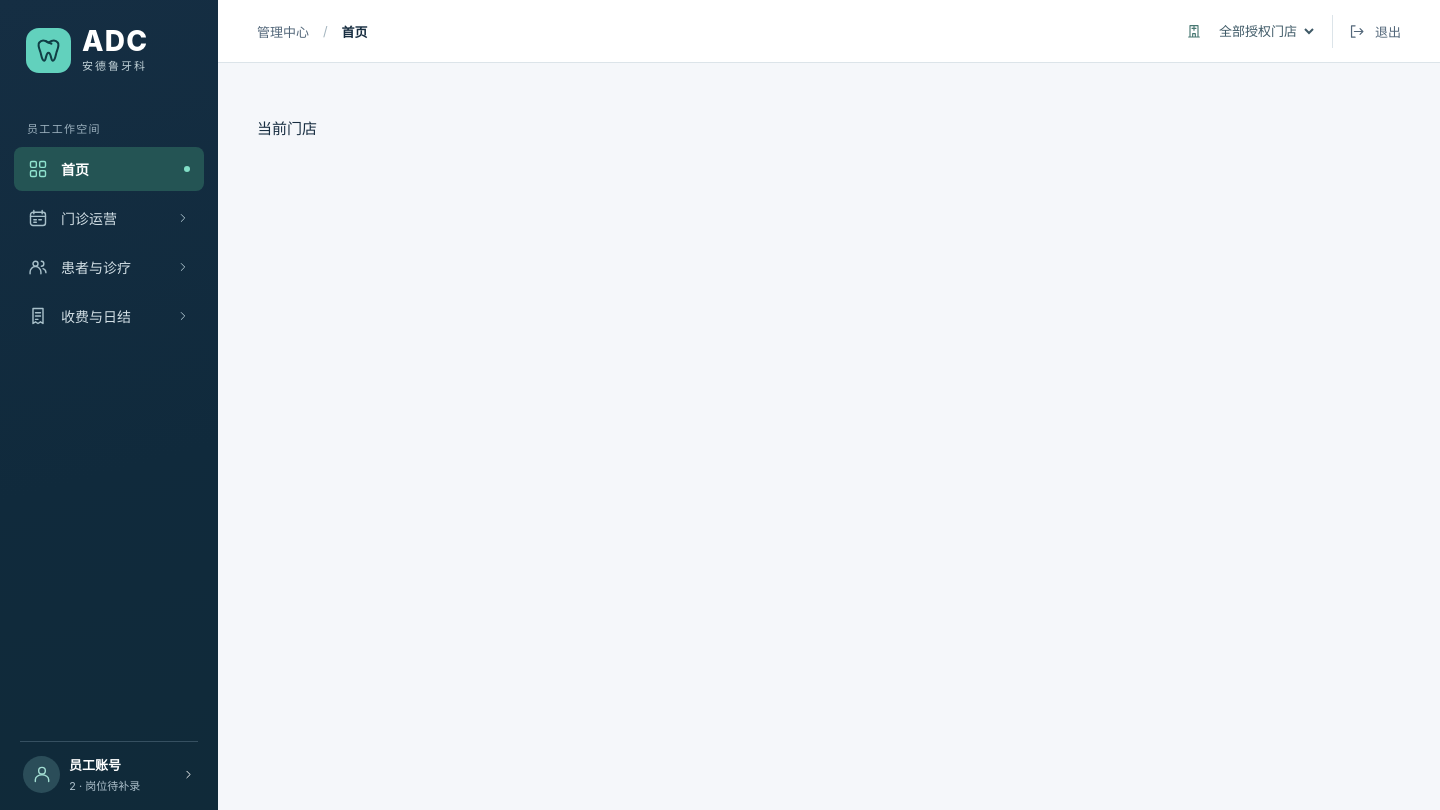
Scenario: an older unauthorized response cannot end the workspace after a clinic switch
The image size is (1440, 810).
Select "中心门诊" in the dropdown named "工作门店" at (1265, 31), box [1212,17,1317,45]
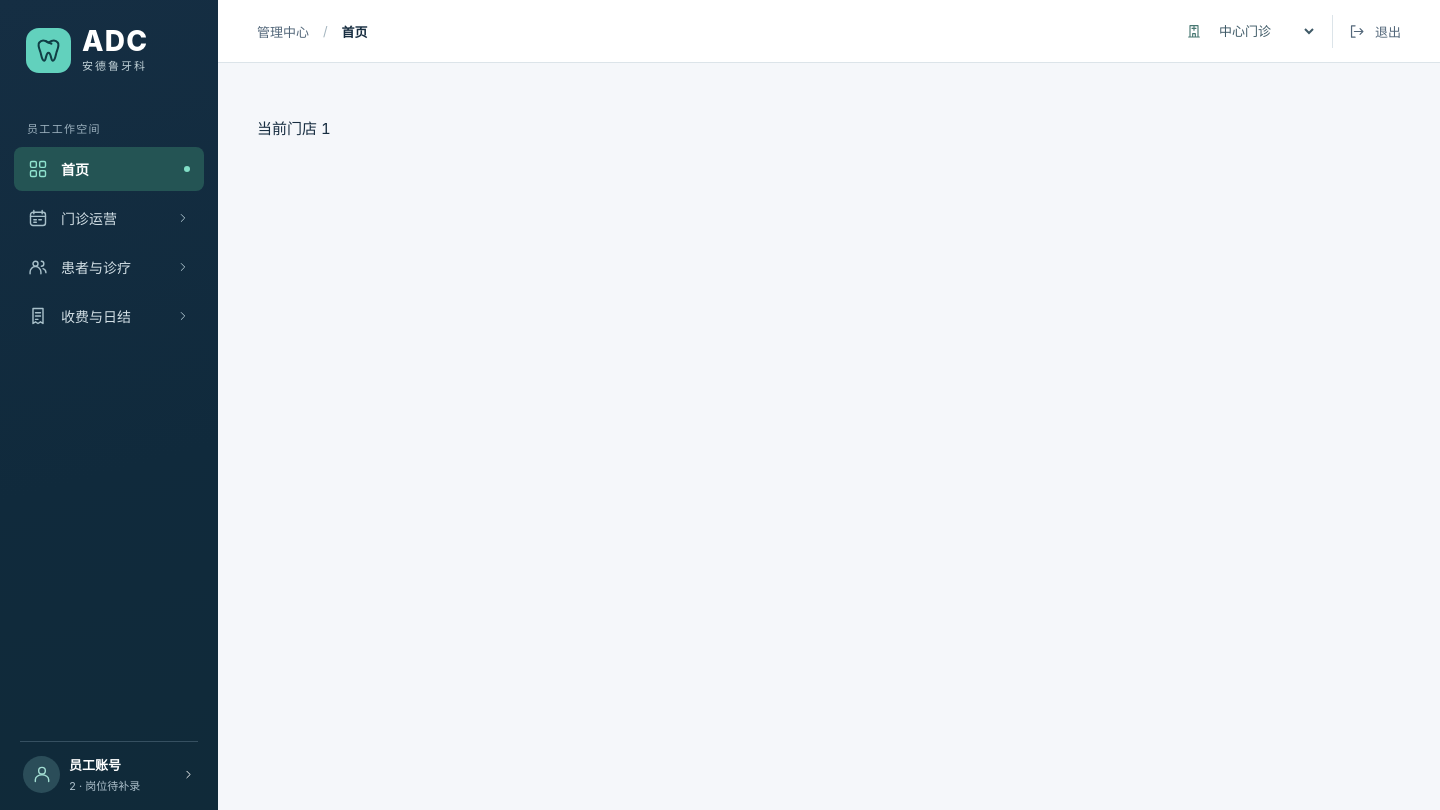
expect the text "当前门店 1" is shown: met, box [257,119,331,138]
Select "滨江门诊" in the dropdown named "工作门店" at (1265, 31), box [1212,17,1317,45]
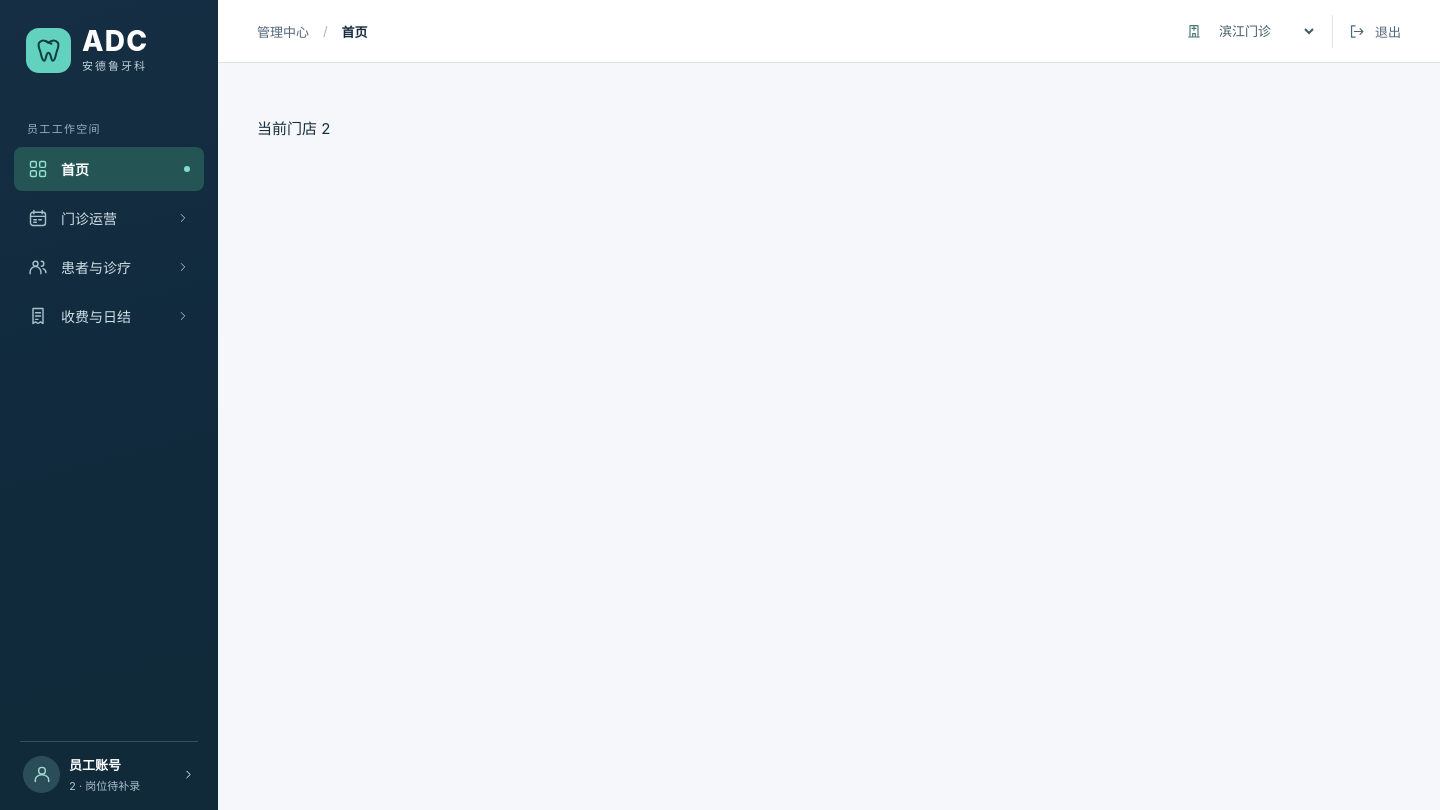
expect the text "当前门店 2" is shown: met, box [257,119,331,138]
